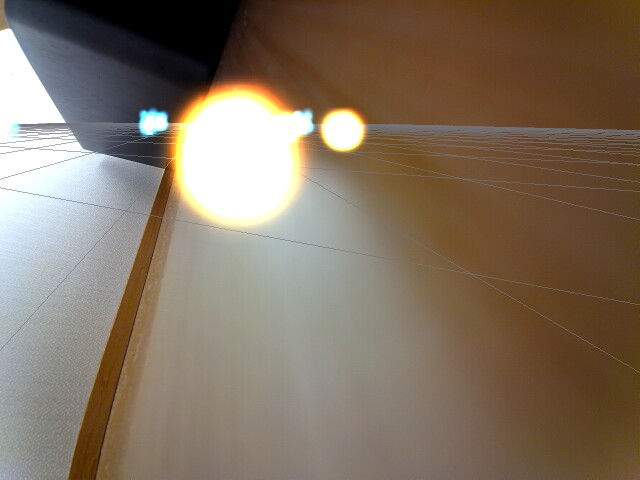fire: (171, 84, 307, 231), (320, 106, 367, 152)
